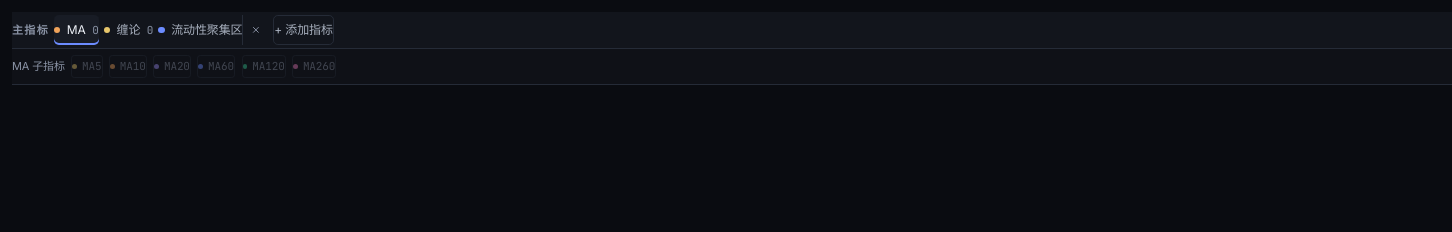
流动性聚集区的参数面板 › 选中后显示三种状态的图例，且能弹出完整状态图示
# 切到该指标（点指标条）
Click the button "流动性聚集区".
click(200, 30)  # box [158, 15, 242, 45]
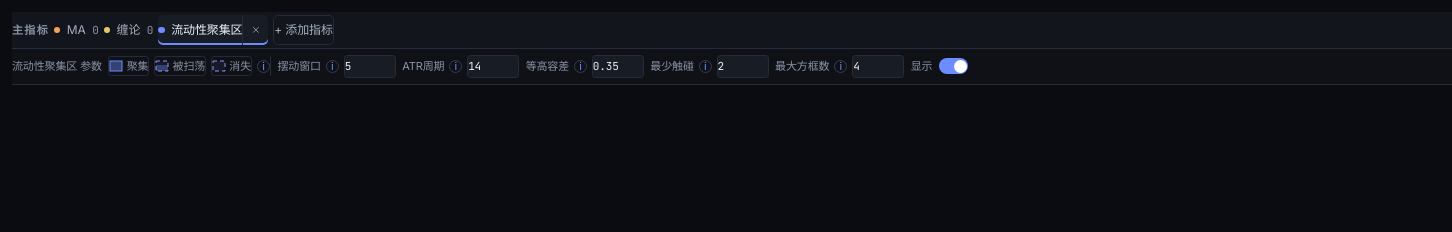
Result: the picture named "聚集中的方框：实线 + 填满" is shown at [110, 60, 124, 72]
Result: the picture named "被扫荡的方框：虚线 + 填充按剩余比例递减" is shown at [155, 60, 169, 72]
Result: the picture named "完全扫荡的方框：虚线 + 不填充" is shown at [212, 60, 226, 72]
Click the button named "聚集区状态图示".
click(264, 66)  # box [257, 60, 270, 73]
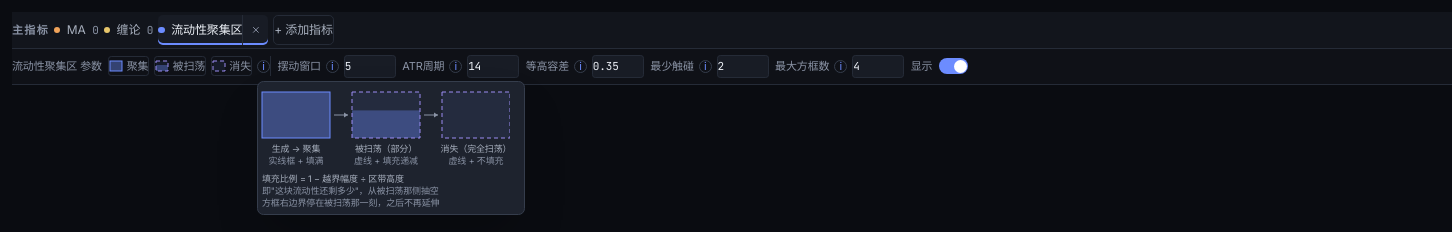
Expected: the text "生成 → 聚集" is shown, [272, 143, 320, 154]
Result: the tooltip is shown at [257, 81, 525, 215]
